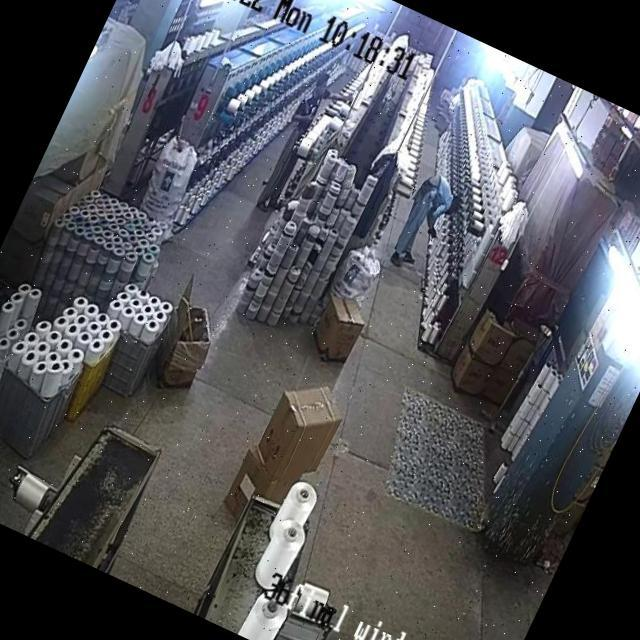person: (259, 70, 335, 204), (386, 164, 466, 272)
